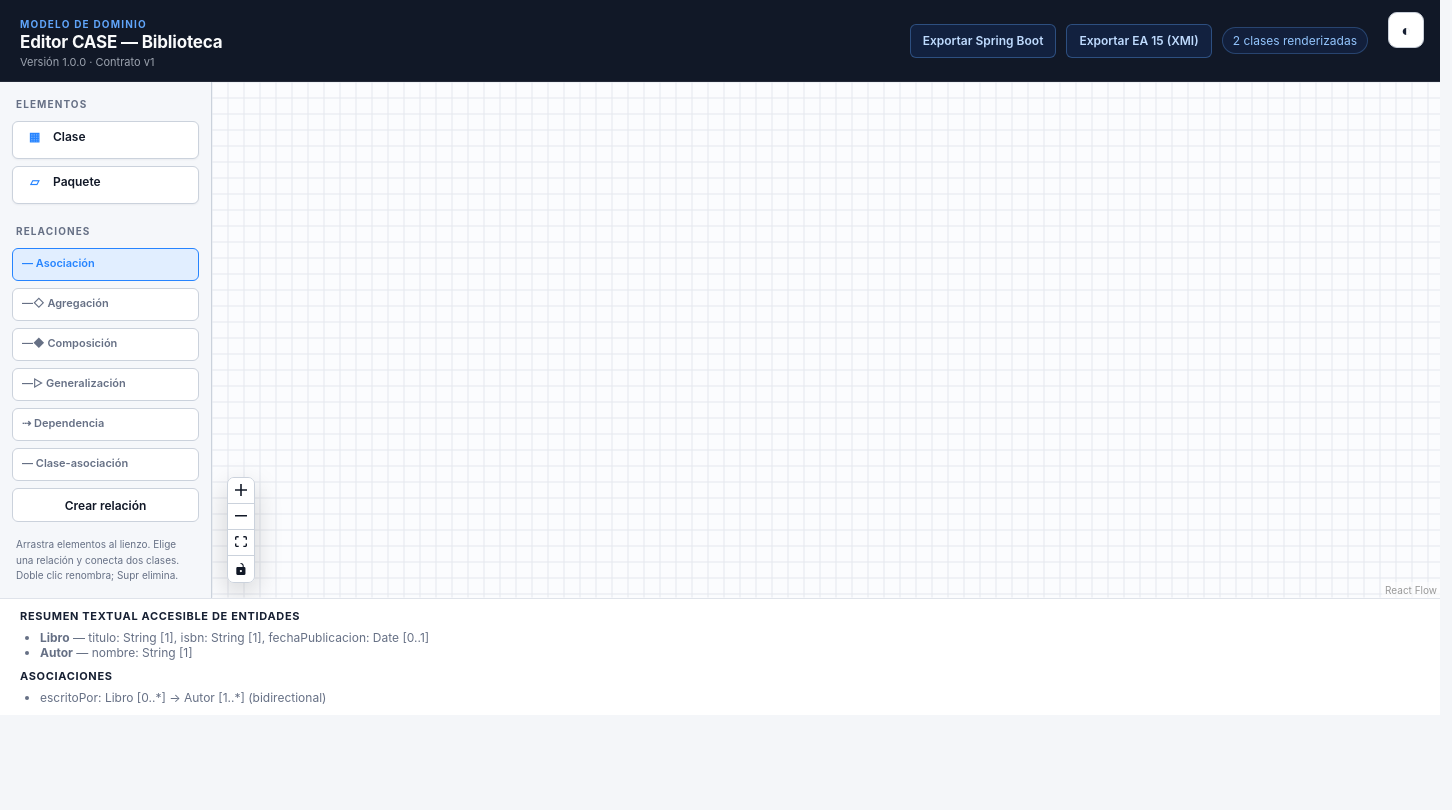
it: CaseWeb Palette & CreateClass Command › crea una clase desde la paleta y la refleja en la vista
This screenshot has width=1452, height=810.
Click the button with test id "palette-item-class" at (106, 140), box left=12, top=121, right=199, bottom=159
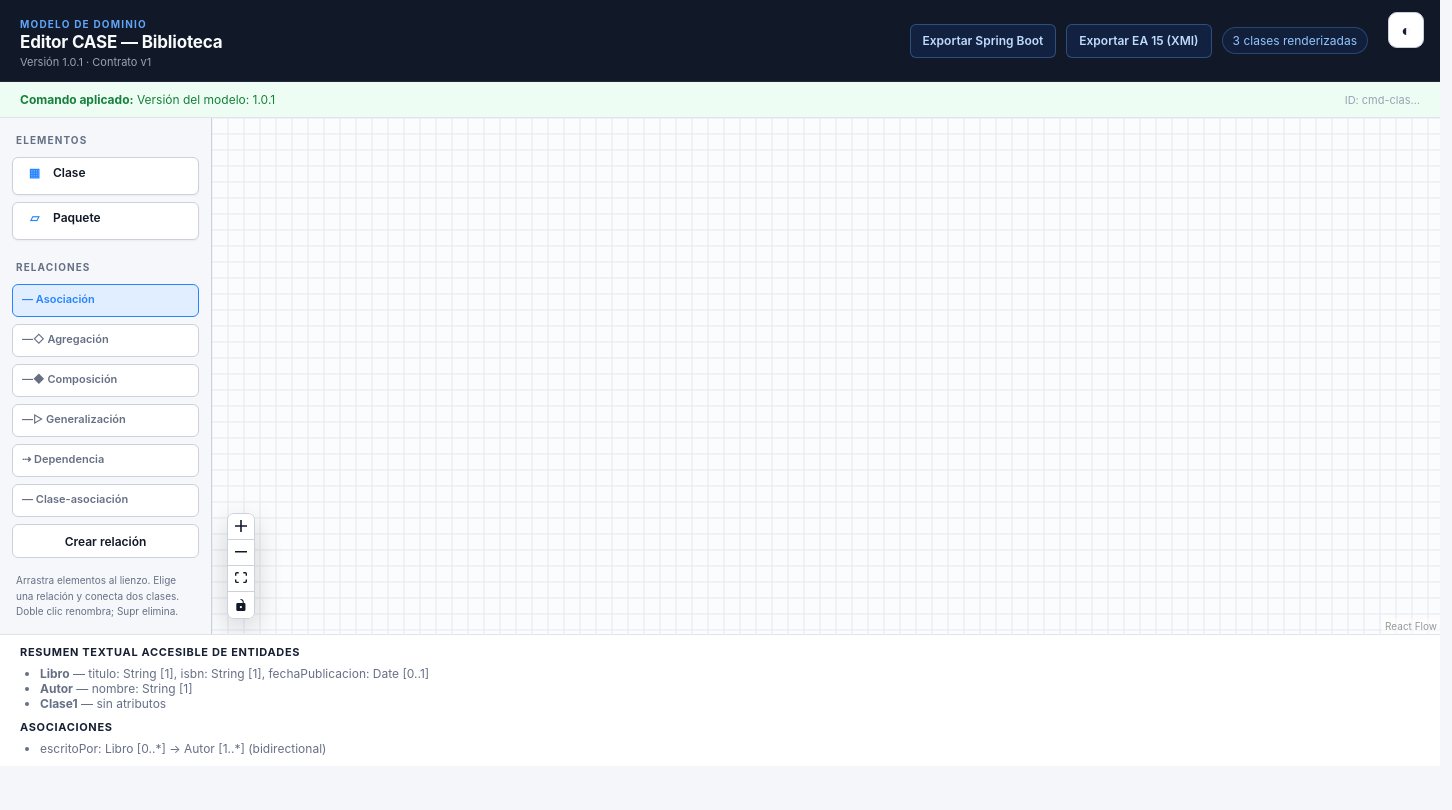
Result: the element with test id "command-result-banner" shows "Comando aplicado" at left=0, top=82, right=1440, bottom=118
Result: the element with test id "command-result-banner" shows "Versión del modelo: 1.0.1" at left=137, top=92, right=275, bottom=107
Result: the text "3 clases renderizadas" is shown at left=1222, top=27, right=1368, bottom=54
